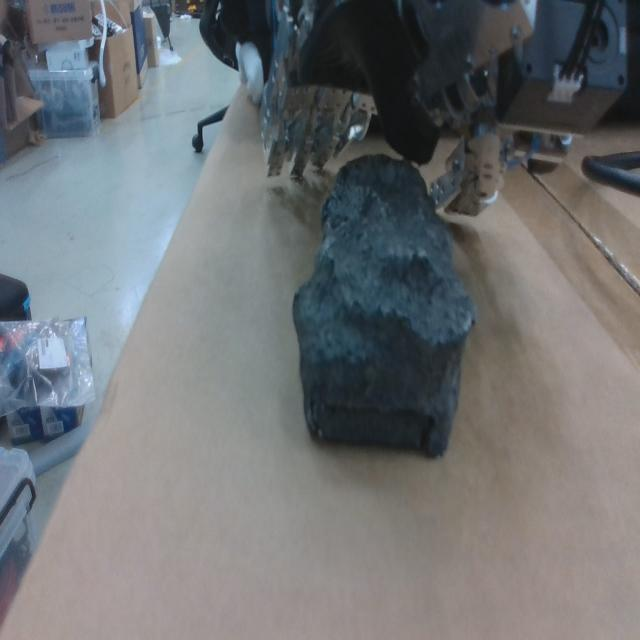stone: (291, 152, 478, 461)
